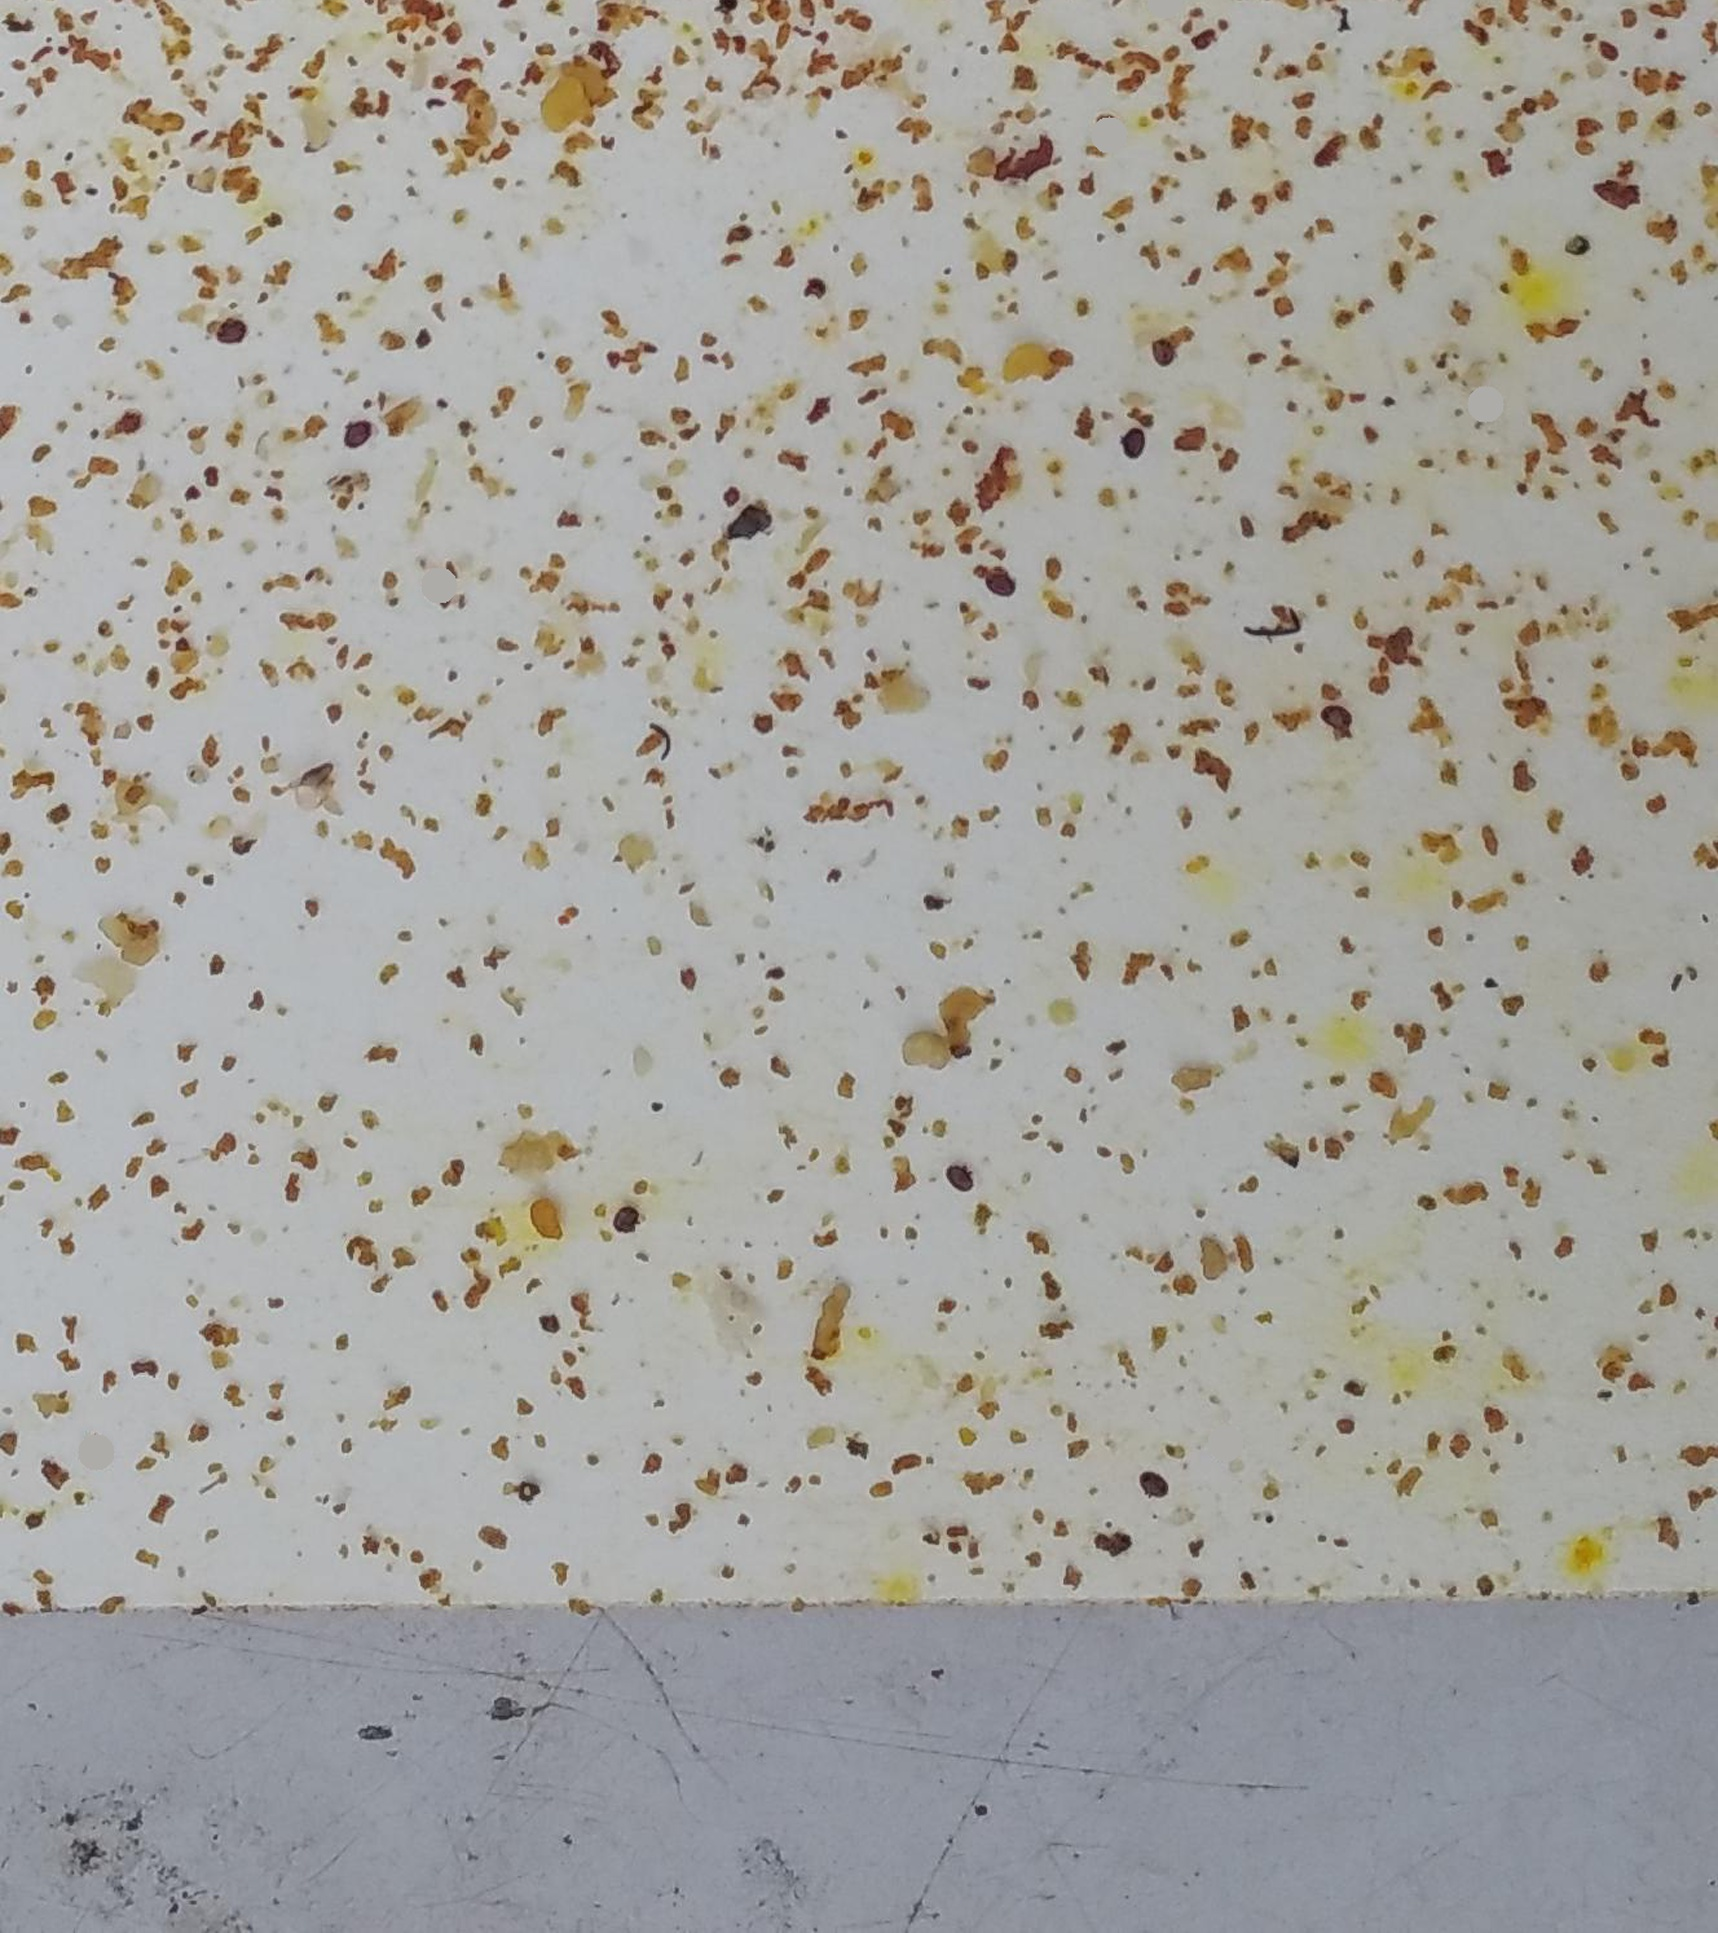Varroa: (983, 565, 1020, 607), (605, 1192, 642, 1232), (1138, 1465, 1174, 1502), (945, 1155, 980, 1194), (1151, 328, 1186, 366), (1318, 698, 1353, 733), (347, 419, 380, 456), (1116, 426, 1149, 463), (217, 313, 250, 346), (1385, 637, 1418, 670)
